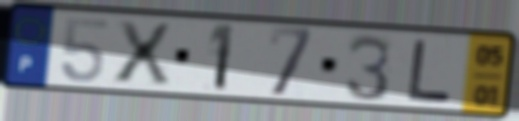1: (206, 22, 237, 96)
3: (345, 31, 392, 104)
5: (58, 15, 111, 85)
7: (267, 23, 314, 101)
L: (405, 37, 456, 104)
X: (111, 18, 174, 87)
